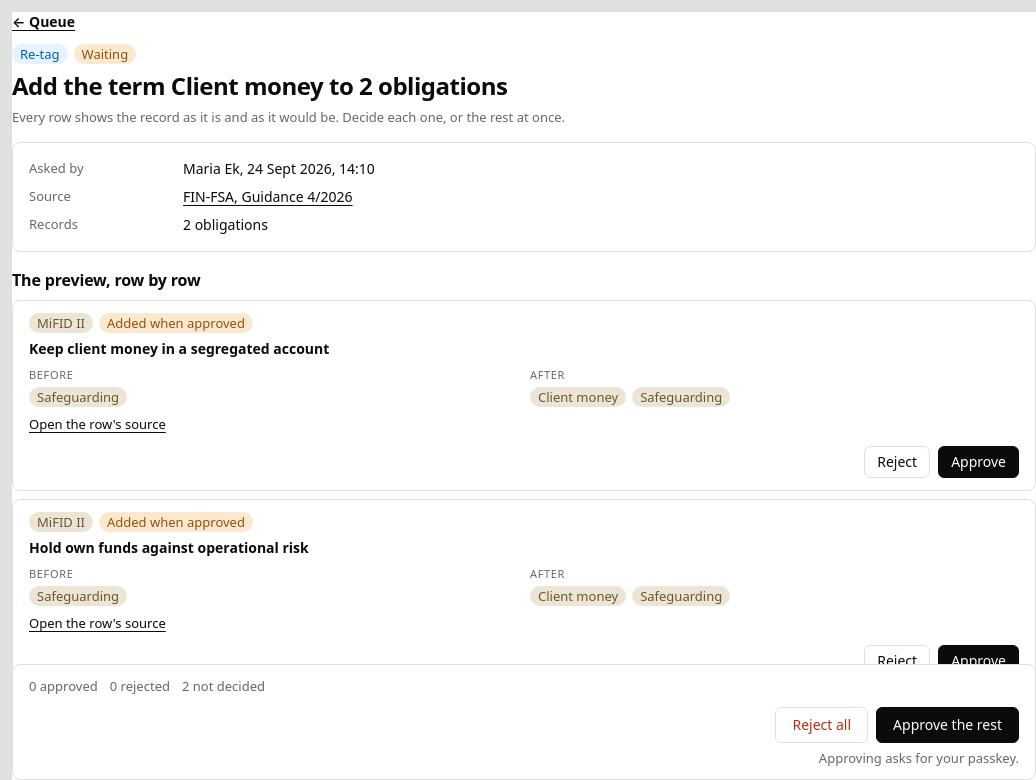
Test: the batch review › decides a row as a draft that can be undone, and a rejection only with a reason
Later steps or results of the test are not shown.
Expected: the heading "Add the term Client money to 2 obligations" is shown, [12,69,507,102]
Click the 1st button "Approve".
click(979, 462)  # box [938,446,1019,478]
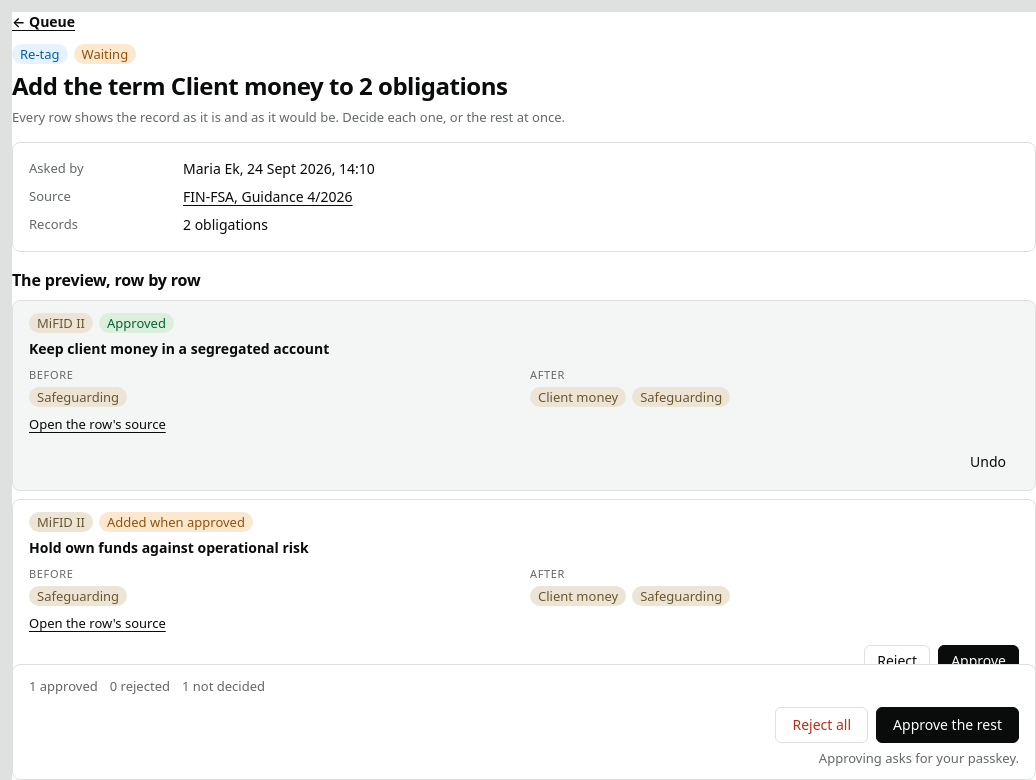
Expected: the text "Approved" is shown, [99,313,174,333]
Result: the text "1 approved" is shown at [29,677,98,695]
Click the button "Undo".
click(988, 462)  # box [957,446,1019,478]
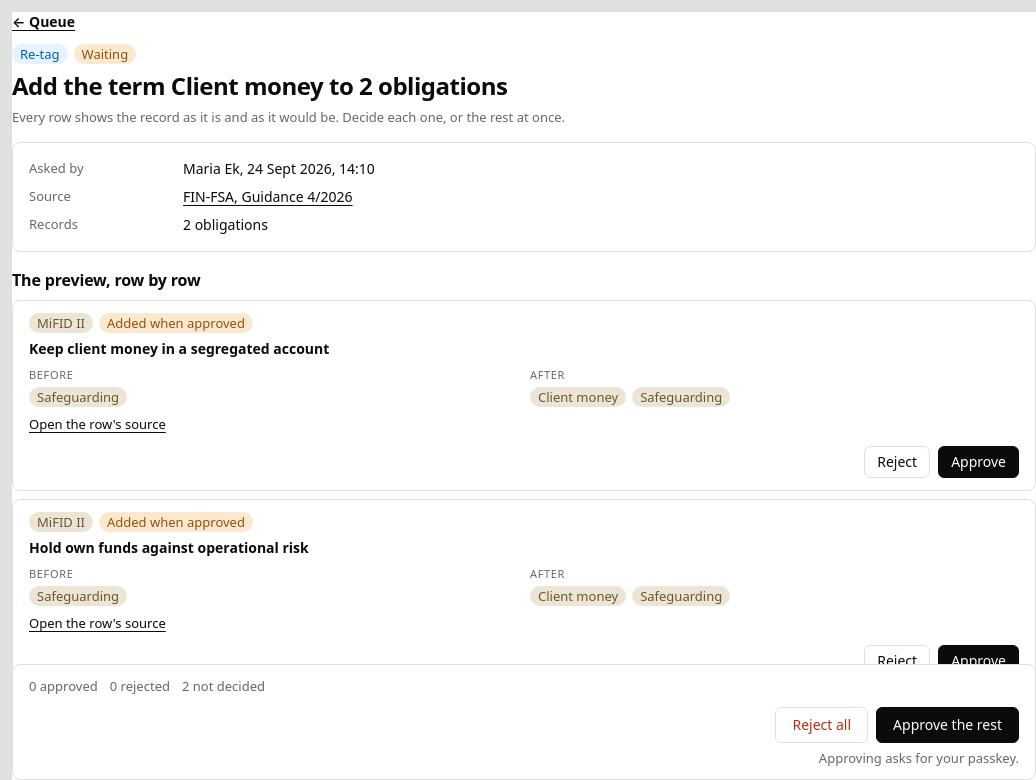
Result: the 1st text "Added when approved" is shown at [99,313,253,333]
